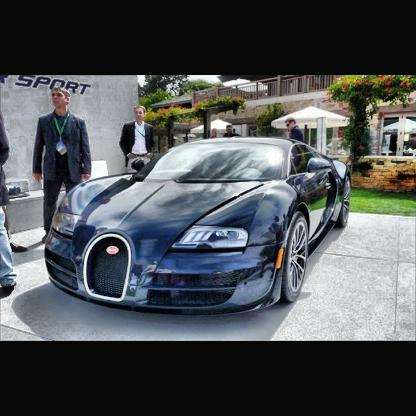Bugatti Veyron 16-4 Coupe 2009: (45, 137, 352, 318)
